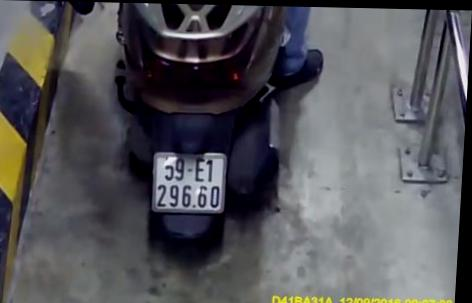License_Plate: (140, 147, 240, 224)
